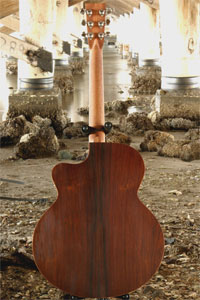guitar: (29, 1, 168, 300)
